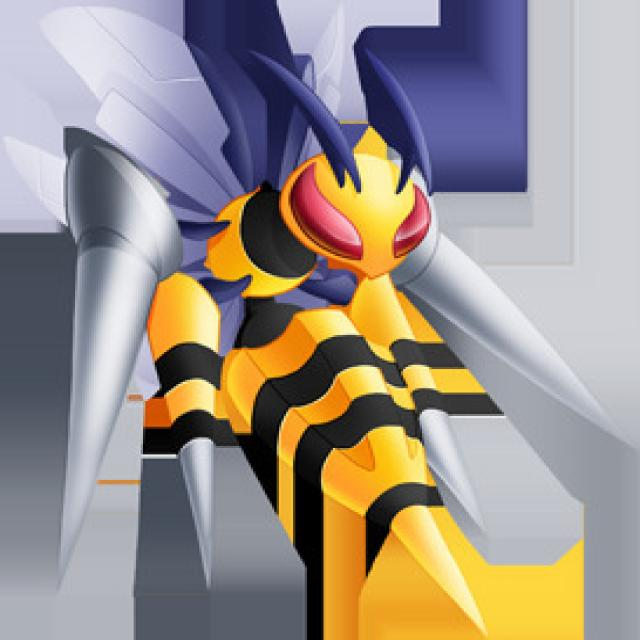Beedrill: (57, 70, 595, 617)
